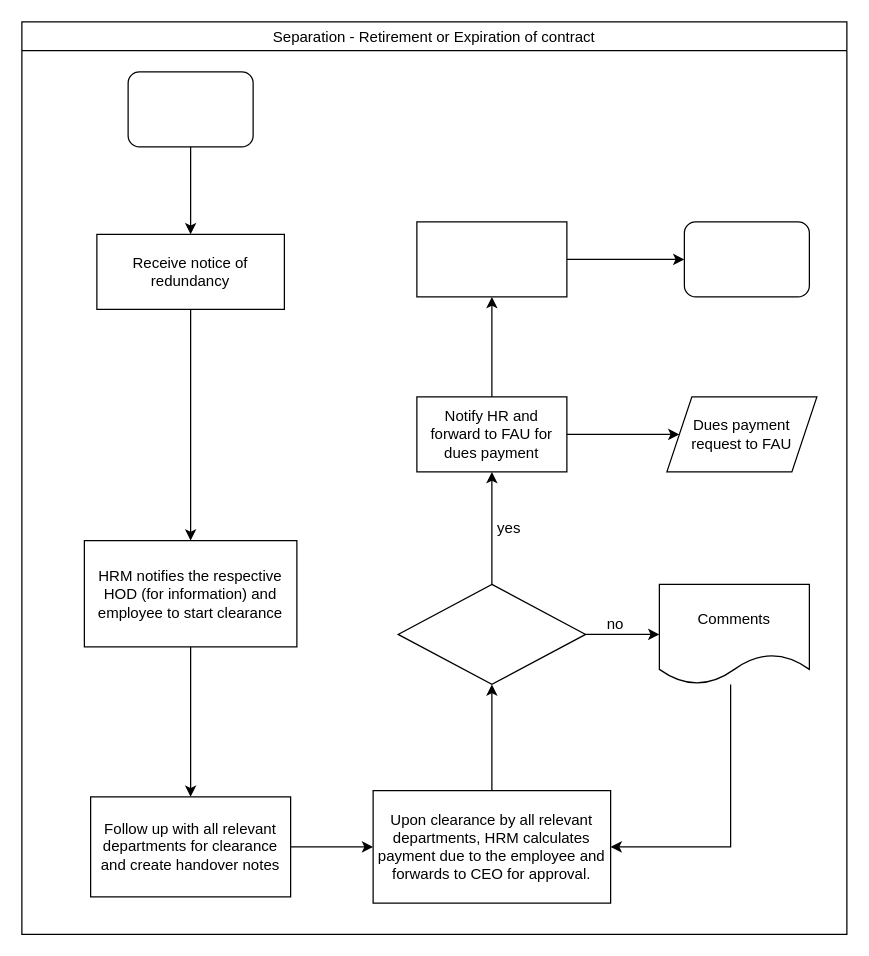
Some shapes in this 869 by 956 pixel diagram are drawn without their labels. Each missing label, with the centre of its shape:
Dues approved by CEO?: point (491, 633)
End: point (746, 259)
HR issues certificate of service: point (491, 259)
Start: point (190, 109)
